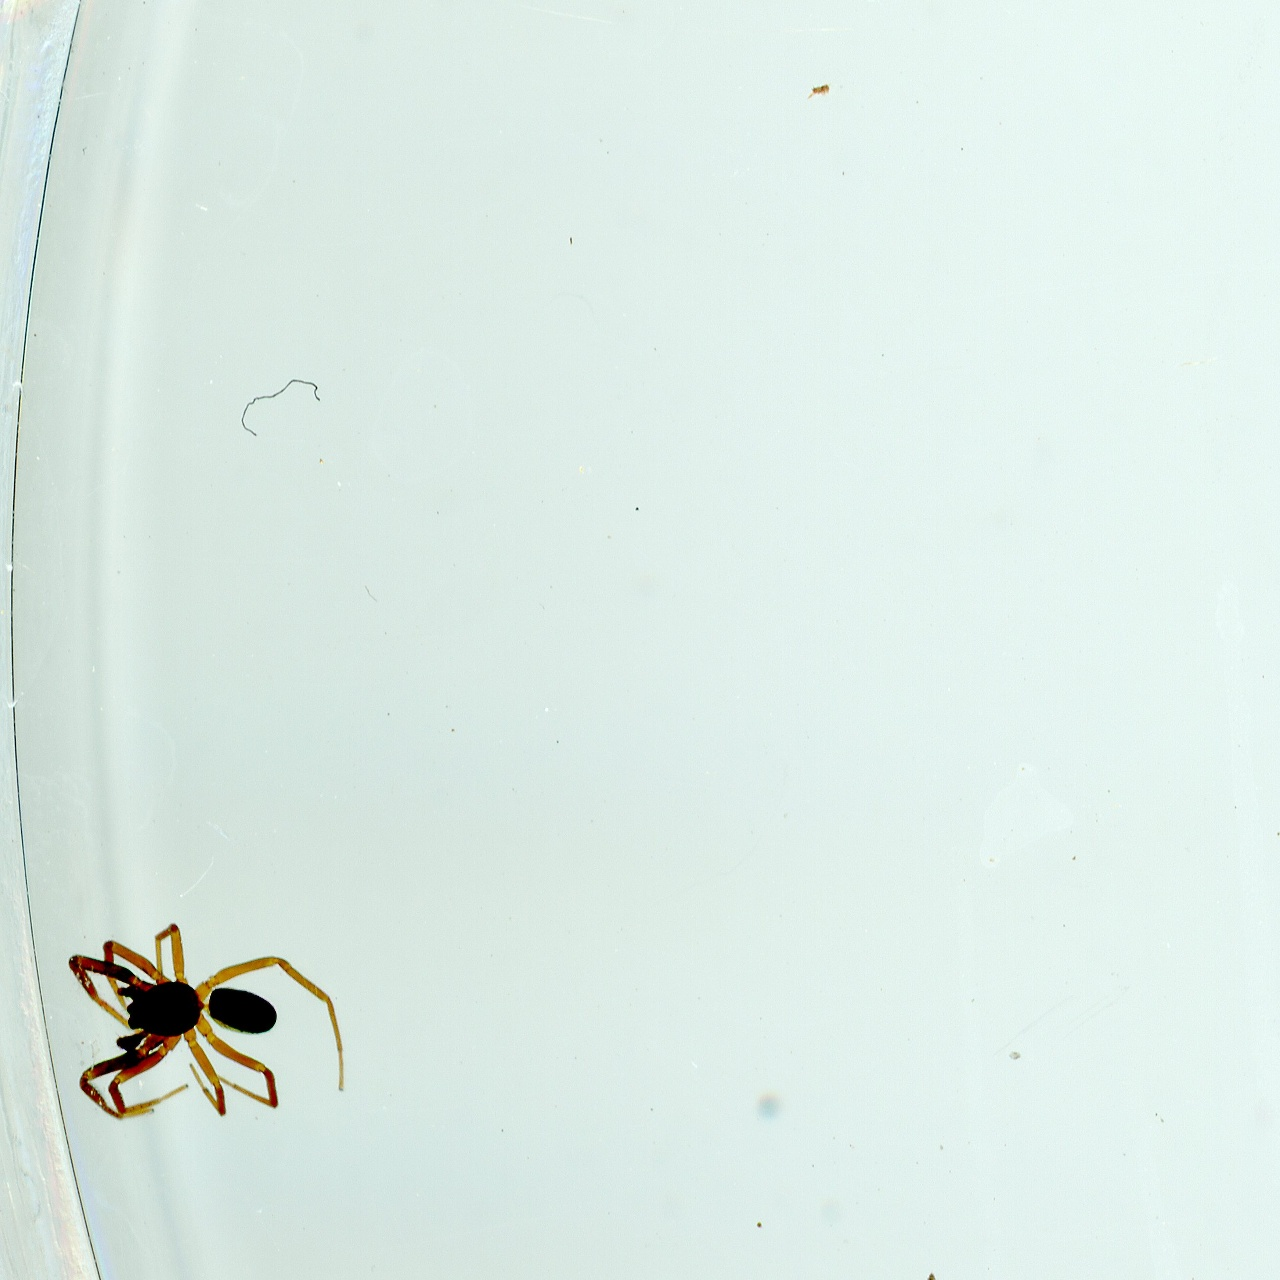arthropod: (54, 916, 365, 1120)
